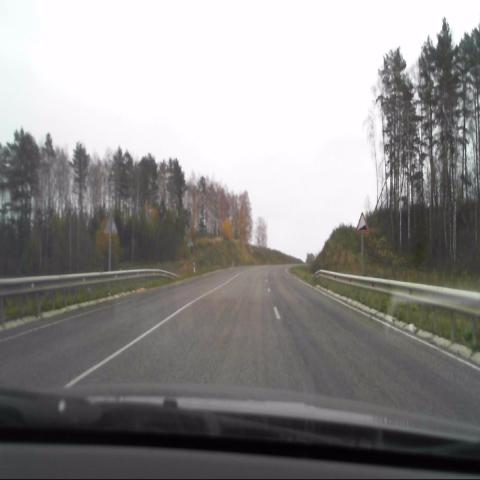1_14: (357, 212, 368, 232)
